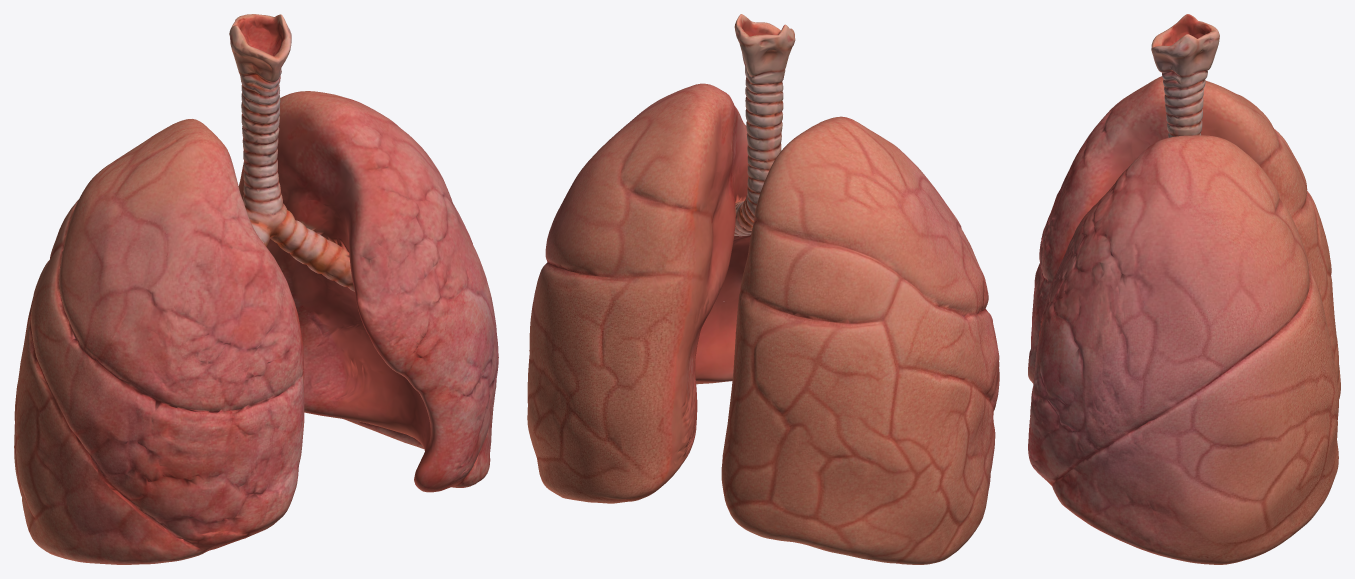
The model's file is respiratory.glb.
The picture shows the model from 3 angles, left to right: view 1: azimuth 30°, elevation 25°; view 2: azimuth 150°, elevation 25°; view 3: azimuth 270°, elevation 25°; orthographic projection. The views are drawn at different scales.
Parts seen in each view (by area): view 1: tripo_node_a2c7b654-b225-4f4d-9d04-c8d7d752252c; view 2: tripo_node_a2c7b654-b225-4f4d-9d04-c8d7d752252c; view 3: tripo_node_a2c7b654-b225-4f4d-9d04-c8d7d752252c.
Part boxes in pixels (bbox=[...]): tripo_node_a2c7b654-b225-4f4d-9d04-c8d7d752252c: bbox=[14, 14, 498, 564]; tripo_node_a2c7b654-b225-4f4d-9d04-c8d7d752252c: bbox=[527, 14, 999, 564]; tripo_node_a2c7b654-b225-4f4d-9d04-c8d7d752252c: bbox=[1028, 14, 1340, 564].
Size of the model in its own units: 0.9026 by 0.9792 by 0.613.
1 material, 1 textured.
